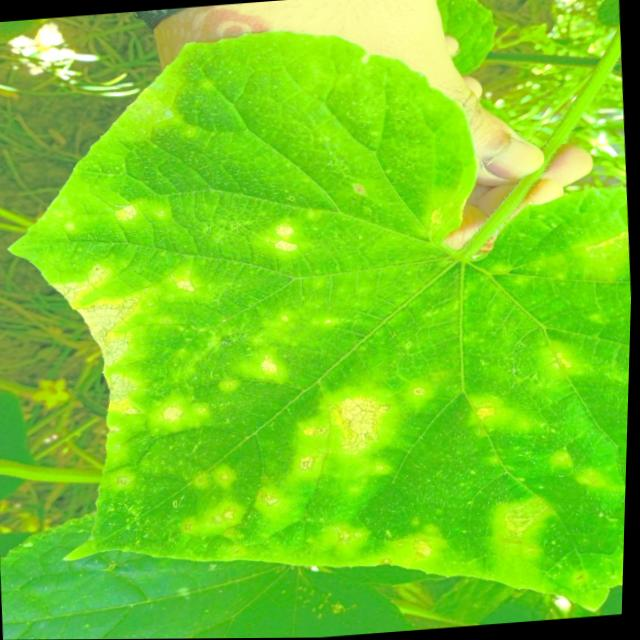Downy-Mildew: (7, 34, 633, 615)
